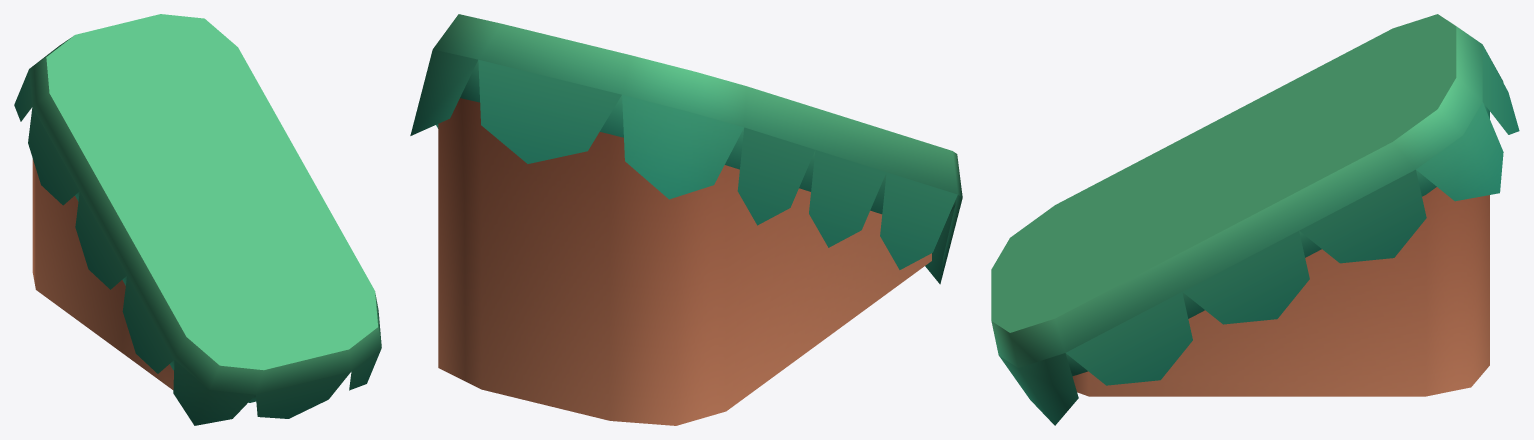
The model's file is block-grass-overhang-large-slope-steep-narrow.glb.
3 views of the same model, side by side, from view 1: azimuth 30°, elevation 25°; view 2: azimuth 150°, elevation 25°; view 3: azimuth 270°, elevation 25° (orthographic). The views are drawn at different scales.
Visible parts, largest first — view 1: block-grass-overhang-large-slope-steep-narrow; view 2: block-grass-overhang-large-slope-steep-narrow; view 3: block-grass-overhang-large-slope-steep-narrow.
Boxes of the visible parts, x1,y1,x2,y2 form: block-grass-overhang-large-slope-steep-narrow: (14, 14, 381, 425); block-grass-overhang-large-slope-steep-narrow: (410, 14, 962, 425); block-grass-overhang-large-slope-steep-narrow: (991, 14, 1519, 425).
Size of the model in its own units: 1.08 by 1.37 by 1.97.
1 material, 1 textured.
